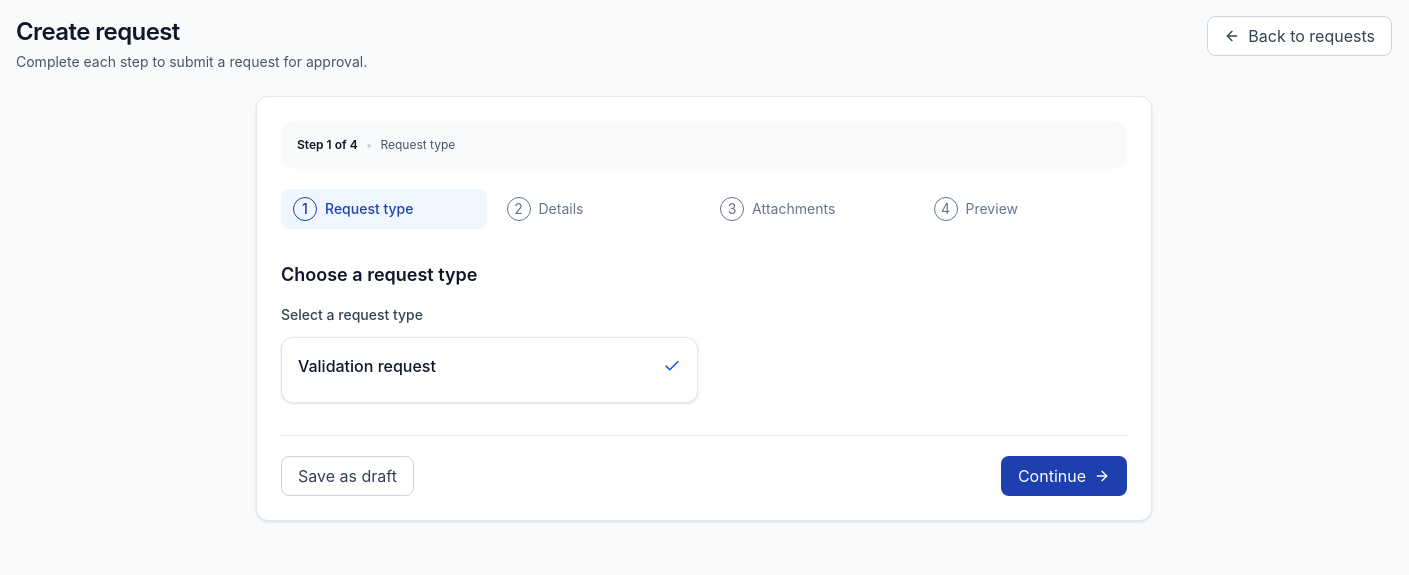
NewRequestPage validation › reports draft persistence failures instead of leaving the user without feedback
Click the button "Save as draft". click: (347,476)
box: [281,456,414,496]
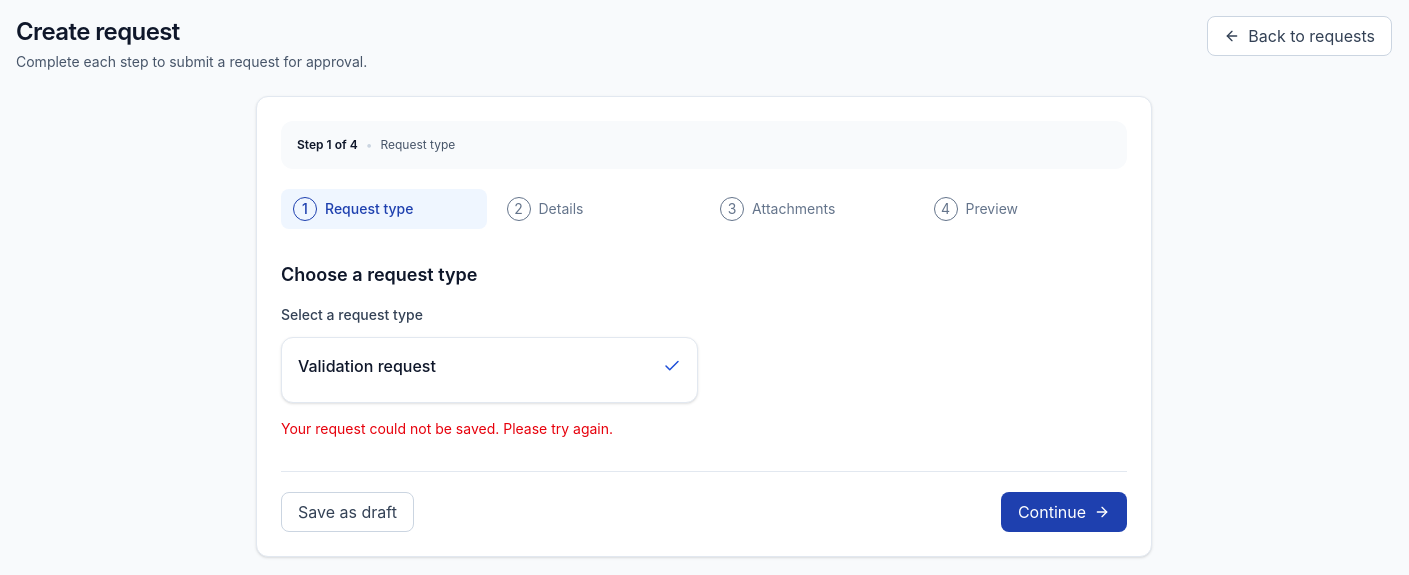
Check: the message reads "Your request could not be saved. Please try again.", box [281,420,613,437]
